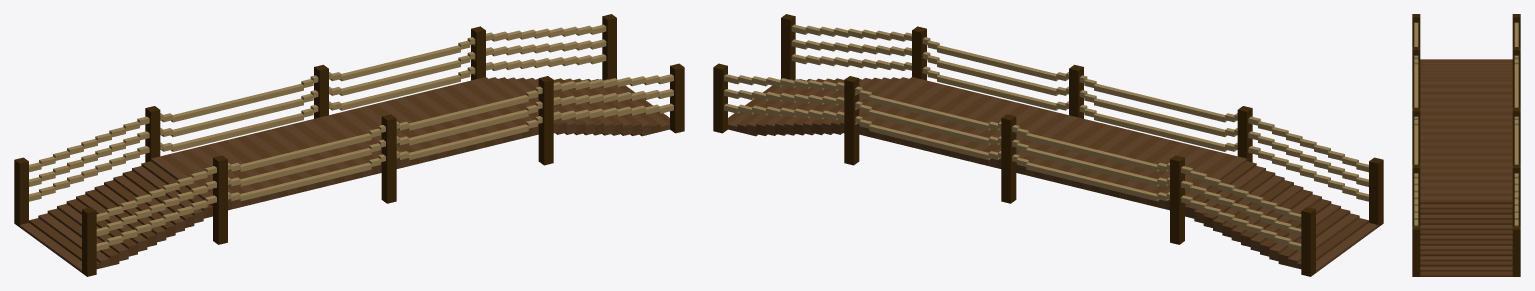
The model's file is Ponte.obj.
3 renders of one model, left to right at view 1: azimuth 30°, elevation 25°; view 2: azimuth 150°, elevation 25°; view 3: azimuth 270°, elevation 25°, orthographic. The views are drawn at different scales.
Size of the model in its own units: 25.5 by 3.4 by 5.4.
Materials: 1 (1 with a texture image).
